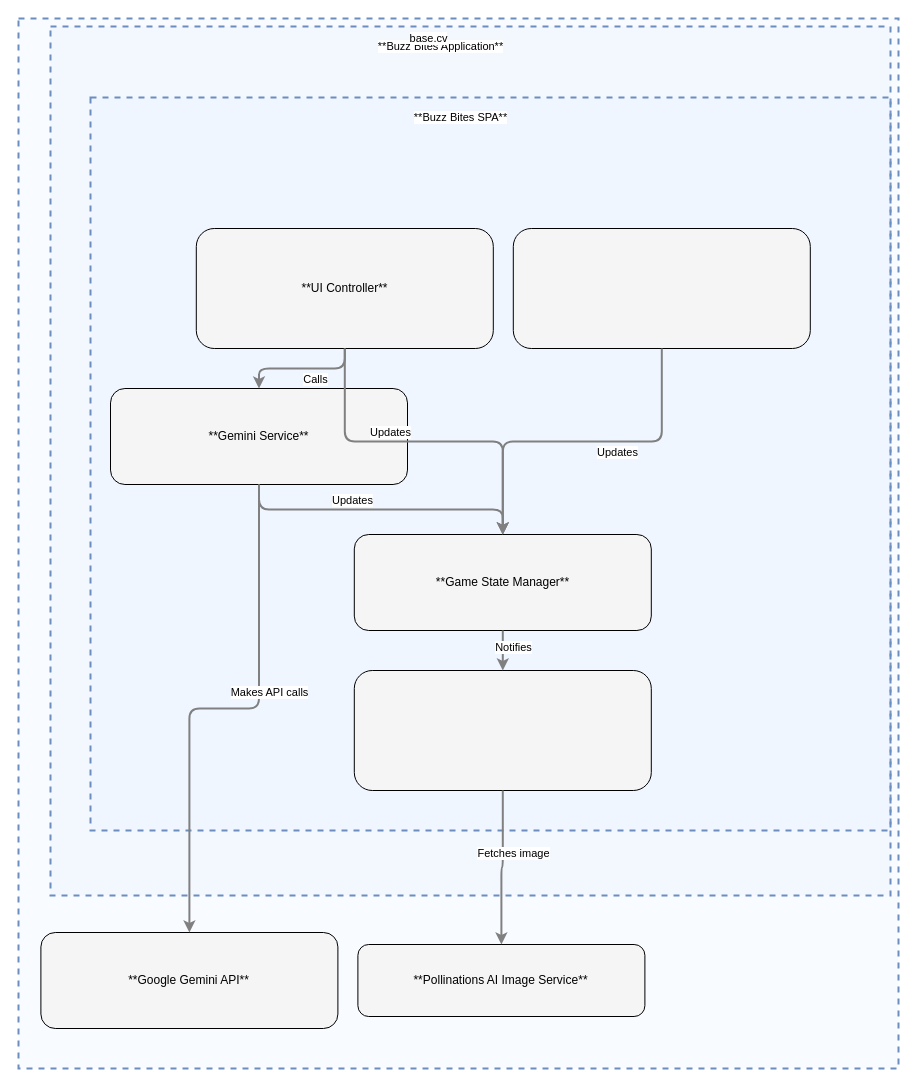
The diagram is 916 pixels wide and 1086 high, and some of its shapes have lost their labels. The shapes that lost their labels are listed below. From the top down, each one's centre as x and y in pixels, then its label:
(x=661, y=288): **Game Engine**
(x=502, y=730): **UI Renderer**
